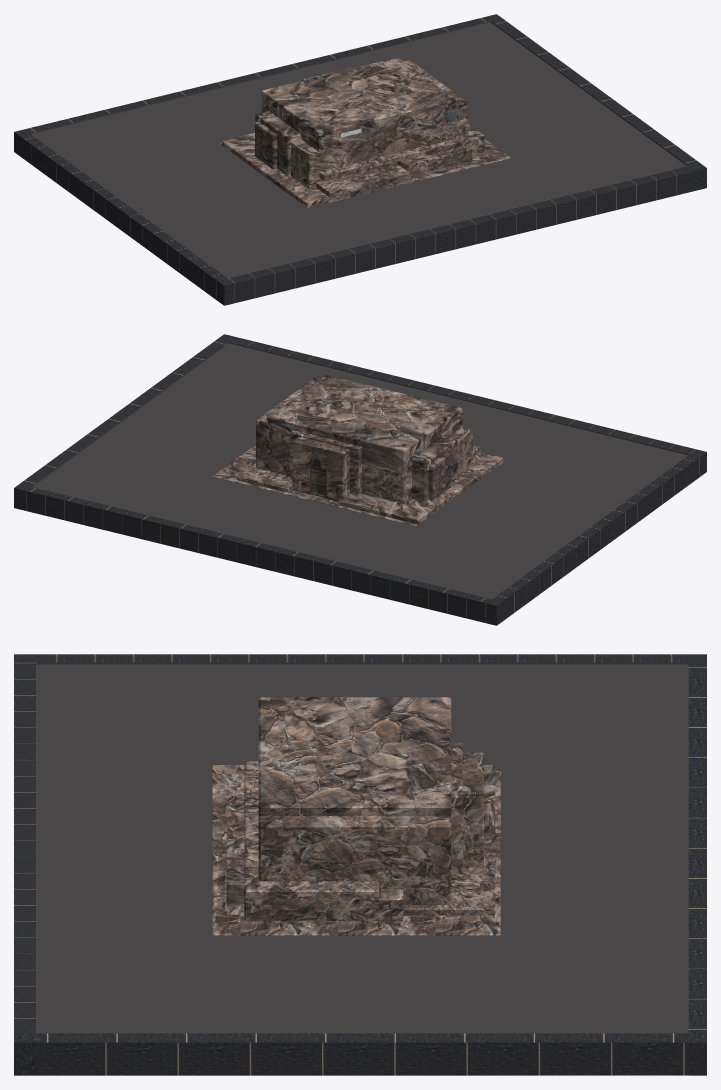
Rendered from CubePedastal.fbx.
The picture shows the model from 3 angles, top to bottom: view 1: azimuth 30°, elevation 25°; view 2: azimuth 150°, elevation 25°; view 3: azimuth 270°, elevation 25°; orthographic projection. The views are drawn at different scales.
Parts seen in each view (by area): view 1: Cube; view 2: Cube; view 3: Cube.
Part boxes in pixels (left/top/right/bottom): Cube: left=14, top=14, right=706, bottom=305; Cube: left=14, top=334, right=706, bottom=625; Cube: left=14, top=654, right=706, bottom=1075.
Size of the model in its own units: 7205 by 1100 by 5436.
